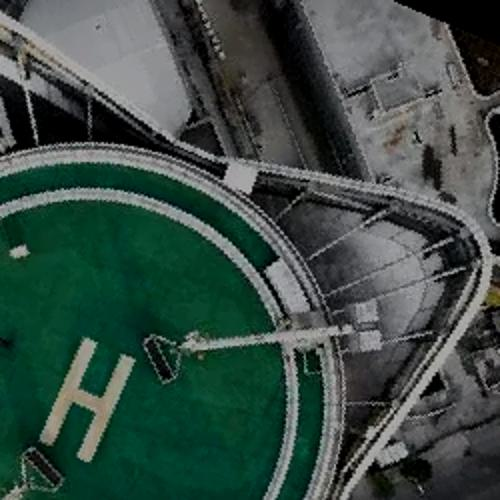Apron: (3, 166, 307, 497)
